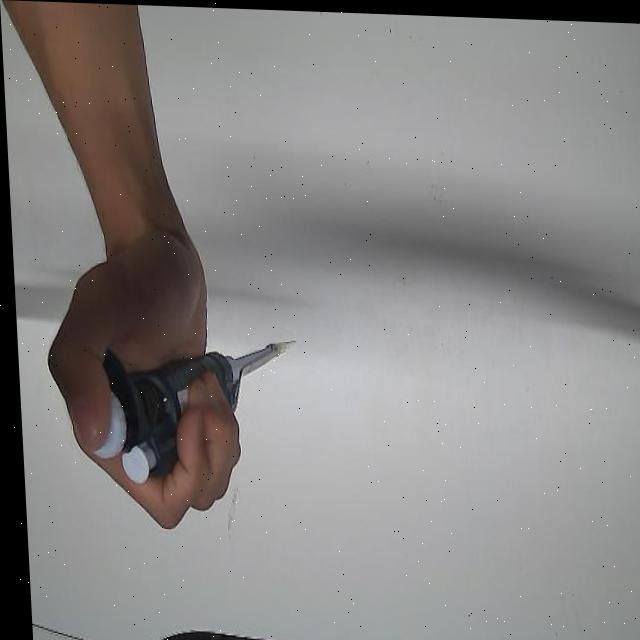Single Channel Pipettor: (63, 331, 288, 487)
